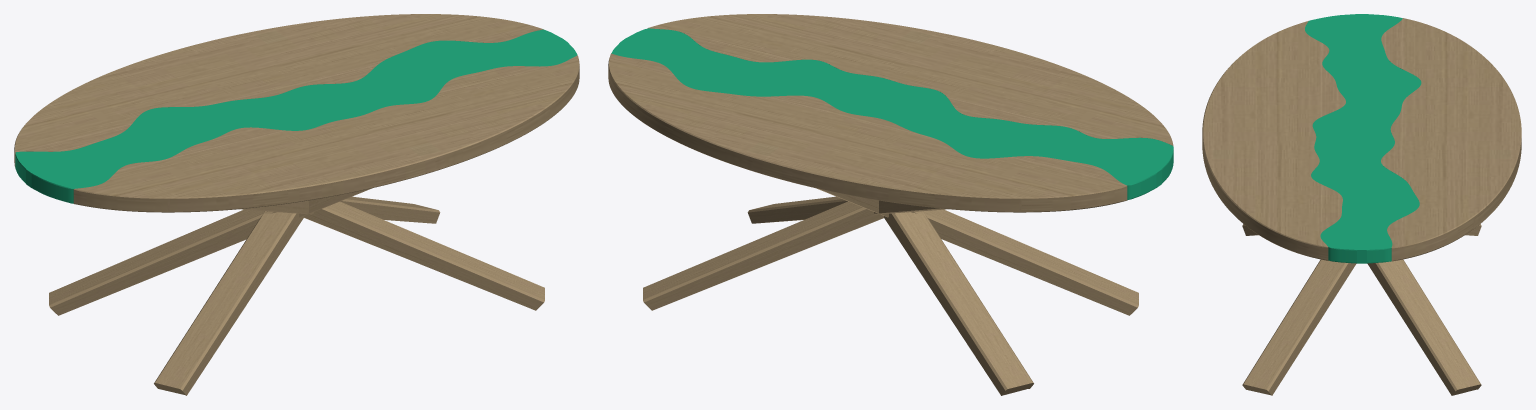
Rendered from ellipse-ash-epoxy-emerald.glb.
3 views of the same model, side by side, from view 1: azimuth 30°, elevation 25°; view 2: azimuth 150°, elevation 25°; view 3: azimuth 270°, elevation 25° (orthographic). The views are drawn at different scales.
Visible parts, largest first — view 1: Wood_Ellipse_EpoxyFar, Wood_Ellipse_EpoxyNear, Base_Ellipse, Resin_Ellipse; view 2: Wood_Ellipse_EpoxyNear, Wood_Ellipse_EpoxyFar, Base_Ellipse, Resin_Ellipse; view 3: Wood_Ellipse_EpoxyNear, Wood_Ellipse_EpoxyFar, Resin_Ellipse, Base_Ellipse.
Part boxes in pixels (bbox=[...]): Wood_Ellipse_EpoxyFar: bbox=[73, 55, 579, 212]; Wood_Ellipse_EpoxyNear: bbox=[14, 14, 543, 166]; Base_Ellipse: bbox=[49, 188, 544, 395]; Resin_Ellipse: bbox=[15, 29, 577, 203]; Wood_Ellipse_EpoxyNear: bbox=[608, 53, 1127, 212]; Wood_Ellipse_EpoxyFar: bbox=[647, 14, 1173, 145]; Base_Ellipse: bbox=[643, 188, 1138, 395]; Resin_Ellipse: bbox=[611, 28, 1173, 200]; Wood_Ellipse_EpoxyNear: bbox=[1381, 18, 1521, 261]; Wood_Ellipse_EpoxyFar: bbox=[1202, 21, 1345, 260]; Resin_Ellipse: bbox=[1305, 14, 1421, 263]; Base_Ellipse: bbox=[1242, 224, 1481, 395].
Size of the model in its own units: 2.13 by 0.762 by 1.22.
2 materials, 1 textured.
